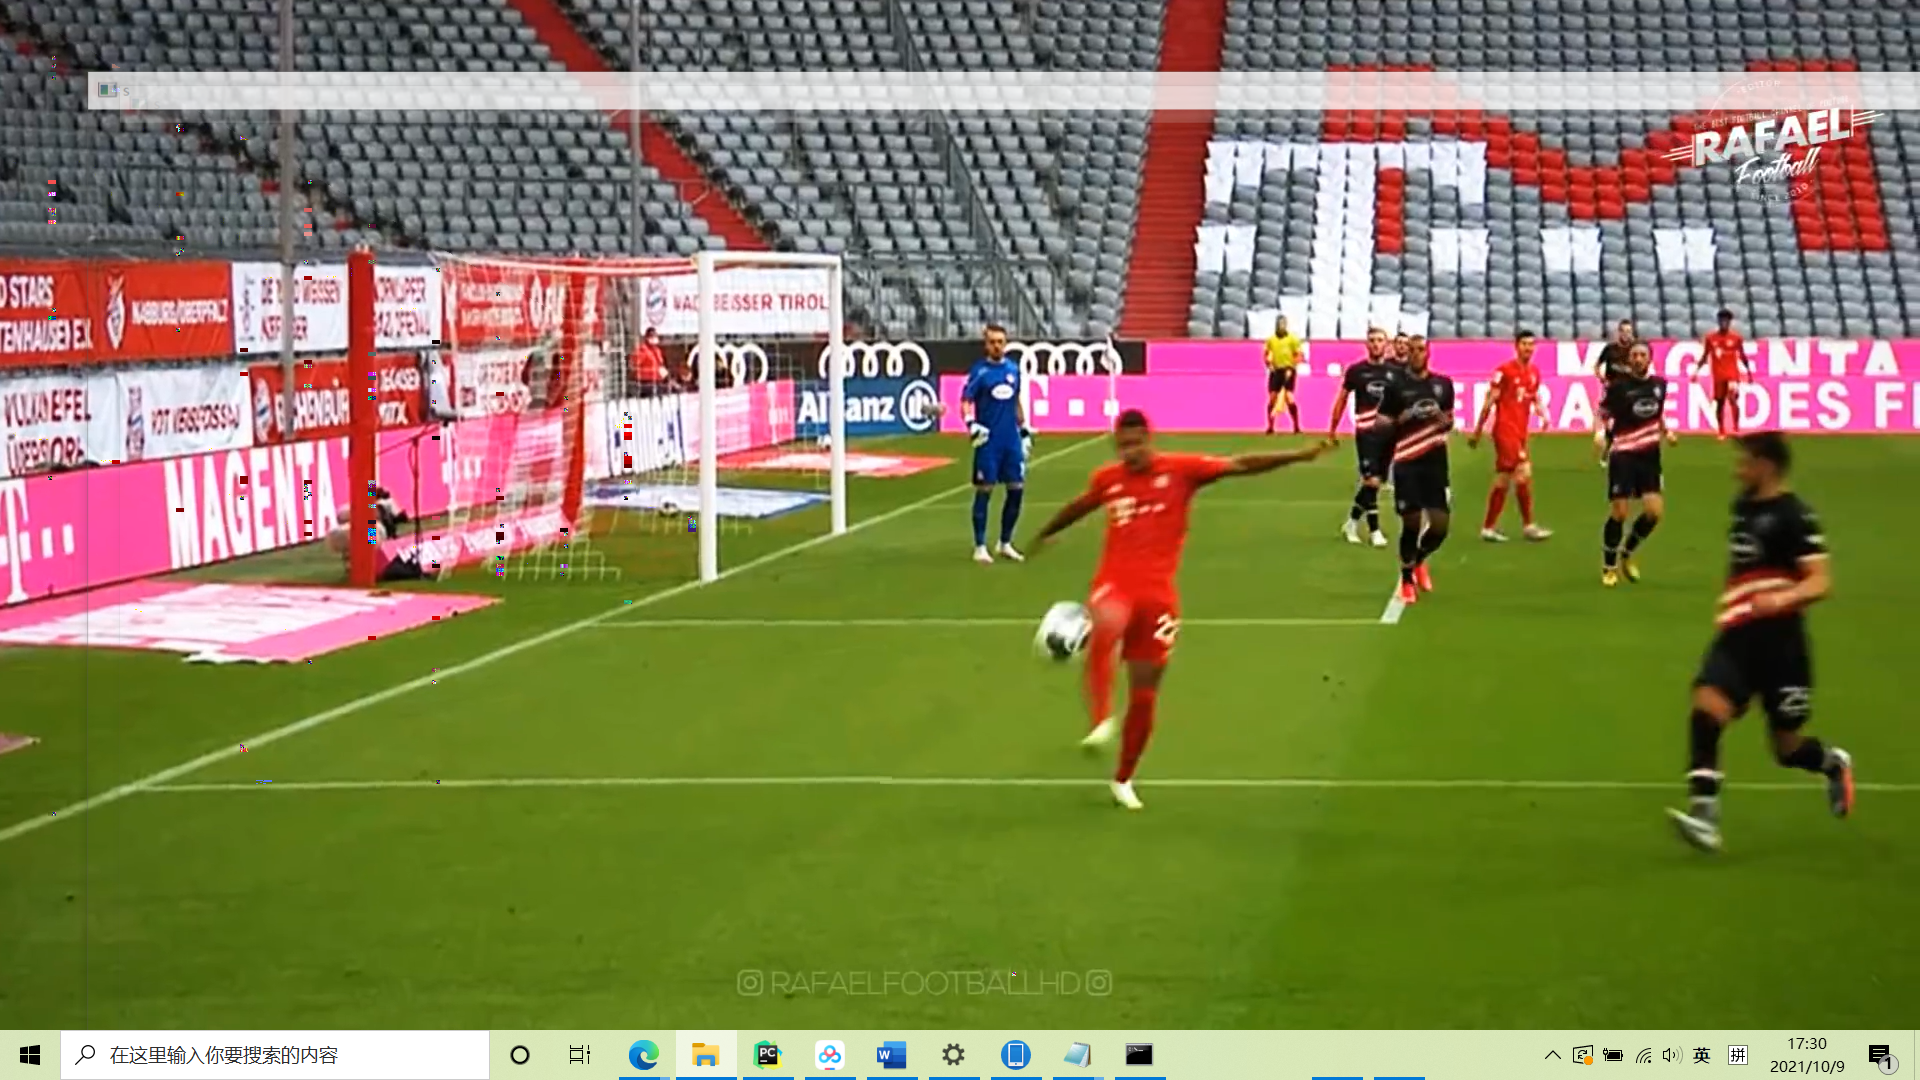ft: (1030, 596, 1098, 669)
